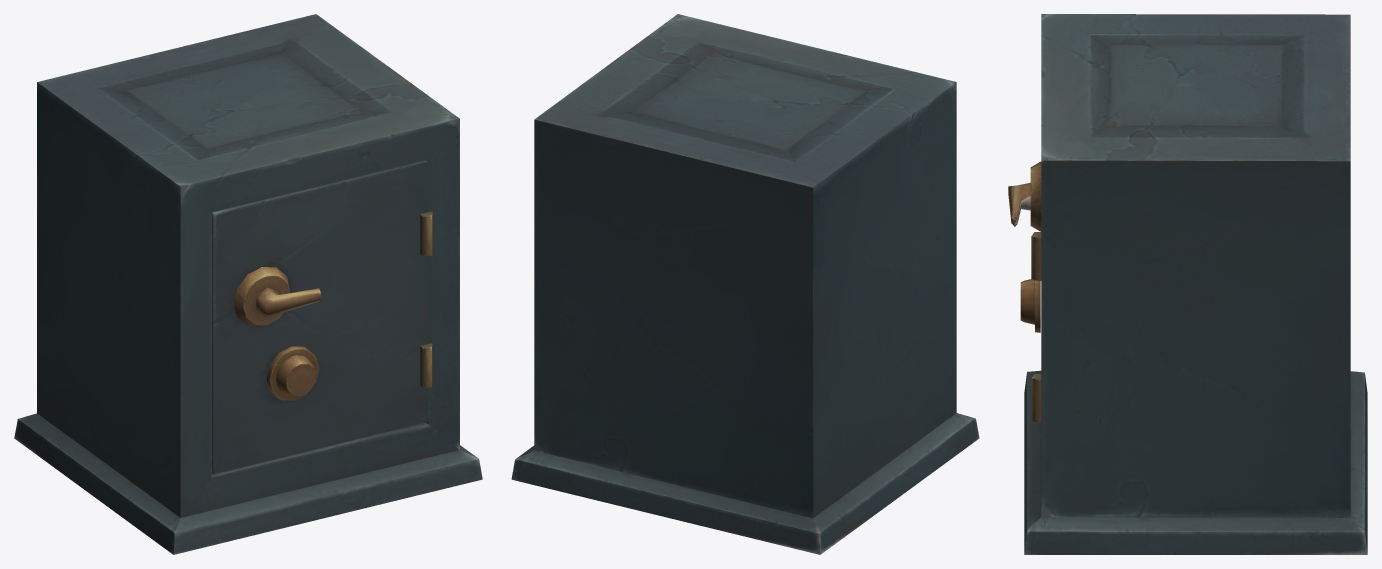
File: scene_shinei_bulaite02.FBX
The picture shows the model from 3 angles, left to right: view 1: azimuth 30°, elevation 25°; view 2: azimuth 150°, elevation 25°; view 3: azimuth 270°, elevation 25°; orthographic projection. The views are drawn at different scales.
Visible parts, largest first — view 1: scene_shinei_bulaite02; view 2: scene_shinei_bulaite02; view 3: scene_shinei_bulaite02.
Part boxes in pixels (x1,y1,x2,y2): scene_shinei_bulaite02: [14, 14, 482, 554]; scene_shinei_bulaite02: [511, 14, 979, 554]; scene_shinei_bulaite02: [1008, 14, 1367, 554].
Size of the model in its own units: 162 by 179 by 151.
